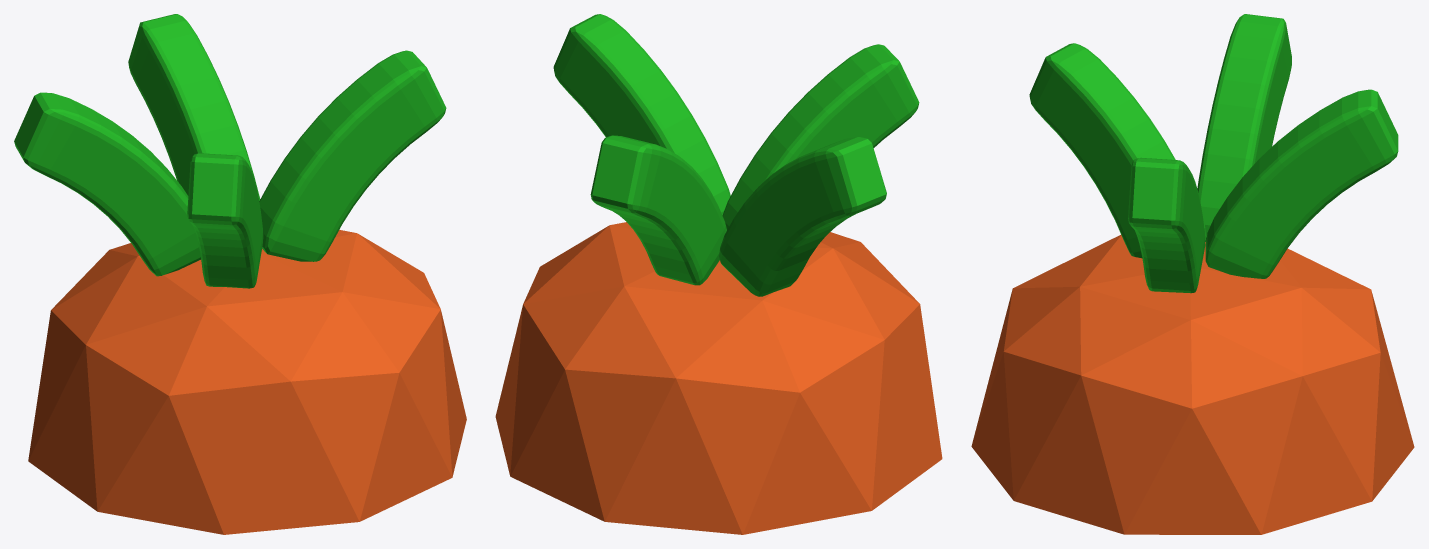
Rendered from fullDevelopedCarrot.fbx.
3 views of the same model, side by side, from view 1: azimuth 30°, elevation 25°; view 2: azimuth 150°, elevation 25°; view 3: azimuth 270°, elevation 25° (orthographic). The views are drawn at different scales.
Visible parts, largest first — view 1: carrot.001; view 2: carrot.001; view 3: carrot.001.
Part boxes in pixels (x1,y1,x2,y2): carrot.001: (14,14,466,534); carrot.001: (495,14,942,534); carrot.001: (971,14,1414,534).
Bounding box in the file's own units: 48.8 × 44.41 × 50.
